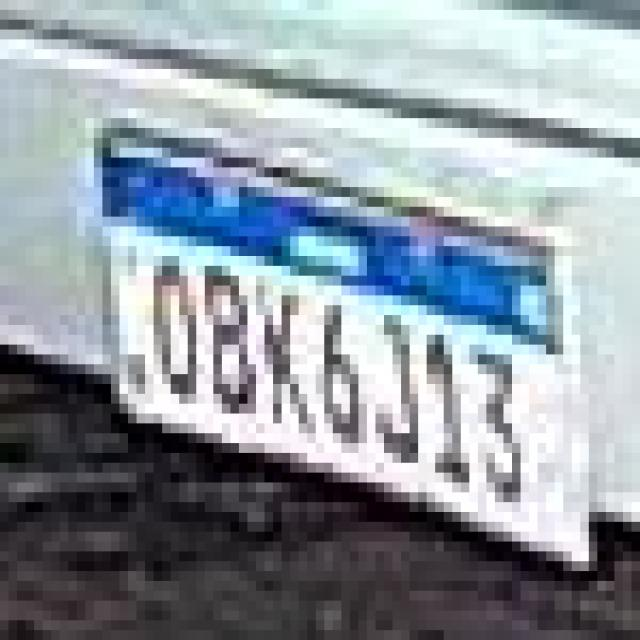0: (150, 252, 199, 407)
1: (422, 322, 473, 495)
3: (468, 337, 524, 511)
6: (314, 298, 365, 455)
B: (199, 256, 256, 422)
J: (368, 306, 423, 476)
X: (256, 280, 312, 439)
